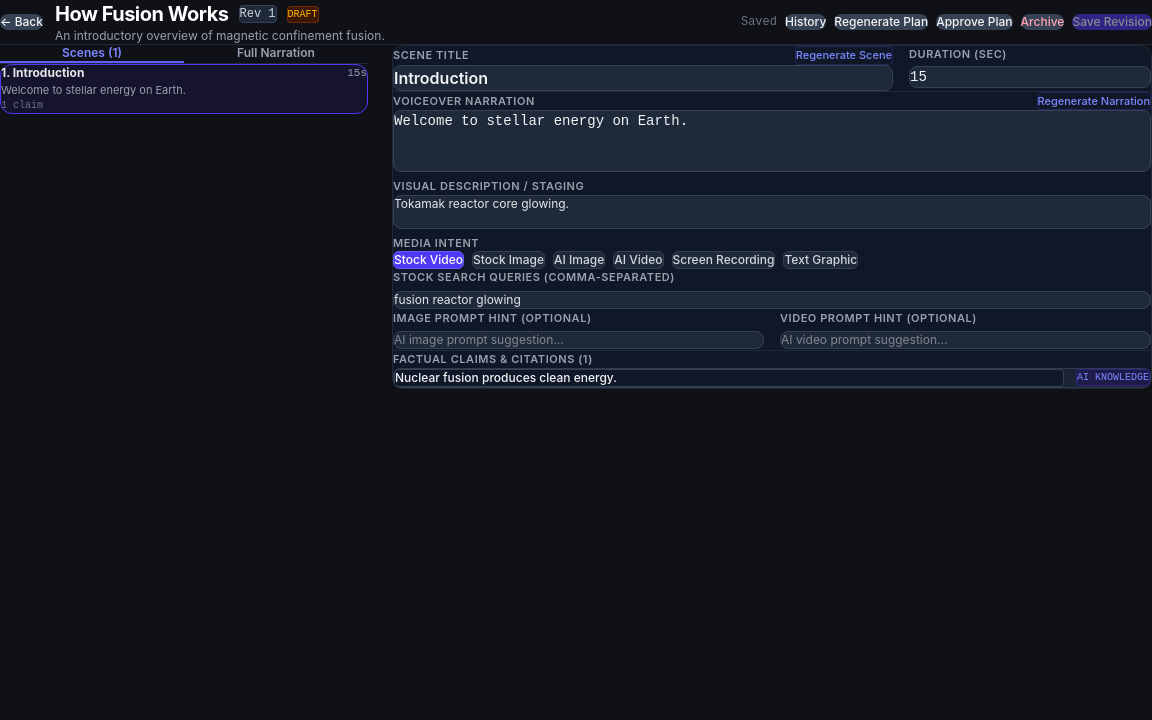
ContentPlanEditor Component › displays warning in approval modal when plan has only model_knowledge claims
Check: the heading "How Fusion Works" is shown, box [55,0,228,28]
Click the button "Approve Plan" at (974, 22), box [936,14,1013,30]
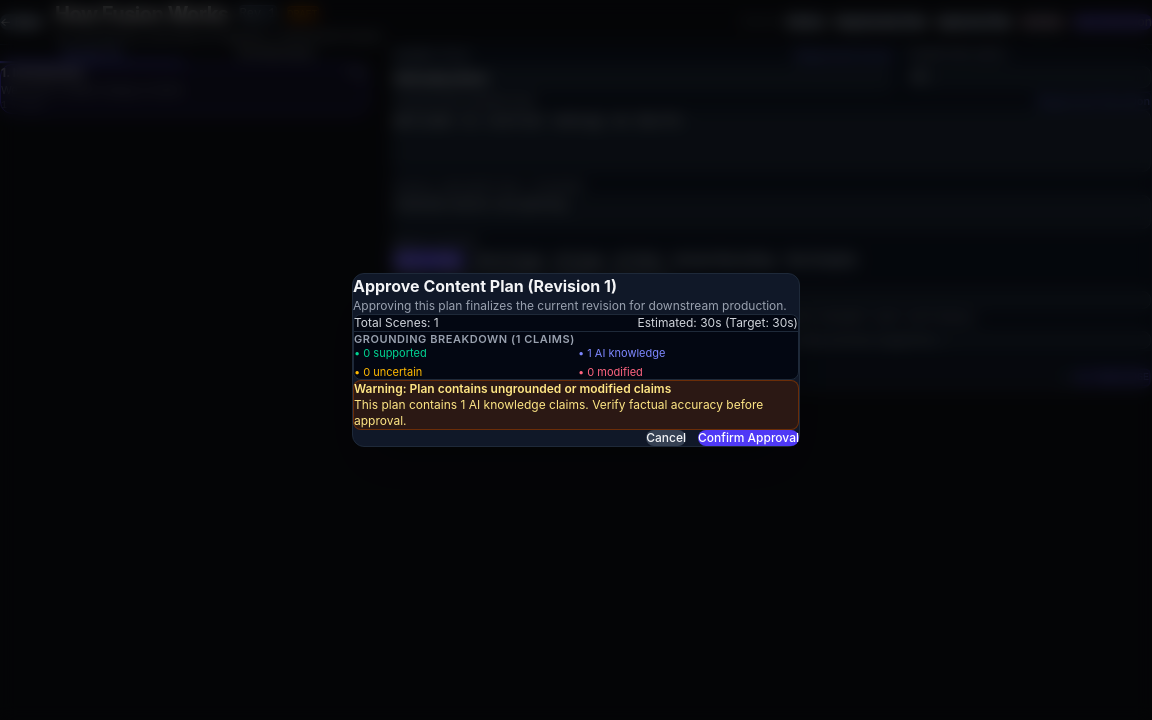
Check: the text "• 1 AI knowledge" is shown, box [578,346,665,360]
Check: the text "Warning: Plan contains ungrounded or modified claims" is shown, box [354,382,671,396]
Check: the text "1 AI knowledge claims" is shown, box [353,380,799,430]
